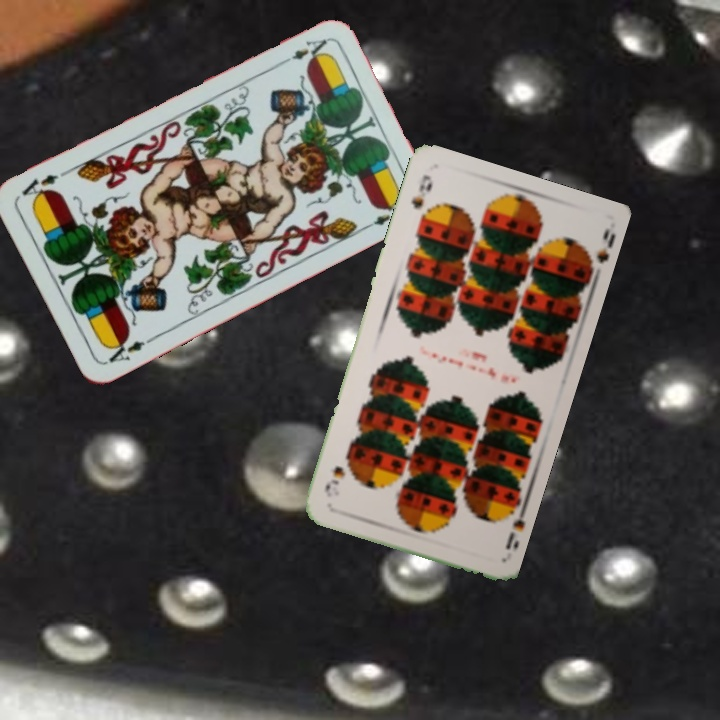EA: (274, 35, 330, 69), (103, 332, 158, 366)
S9: (498, 500, 523, 552), (407, 170, 435, 212)
